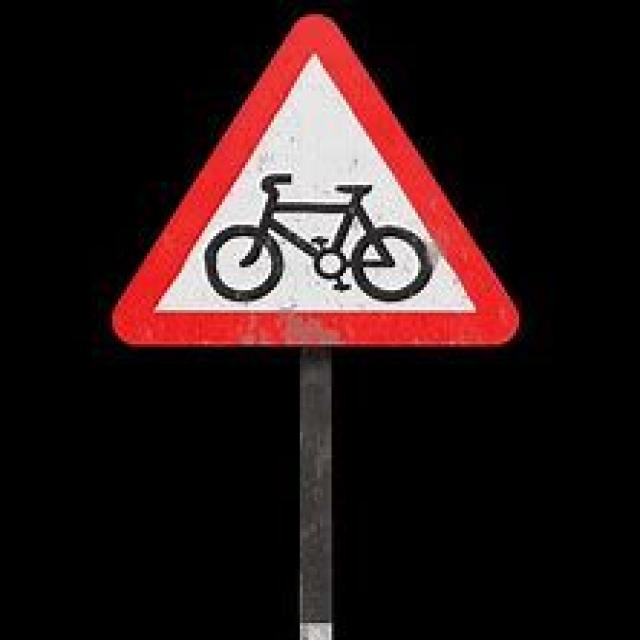CYCLE_CROSSING: (95, 12, 526, 356)
